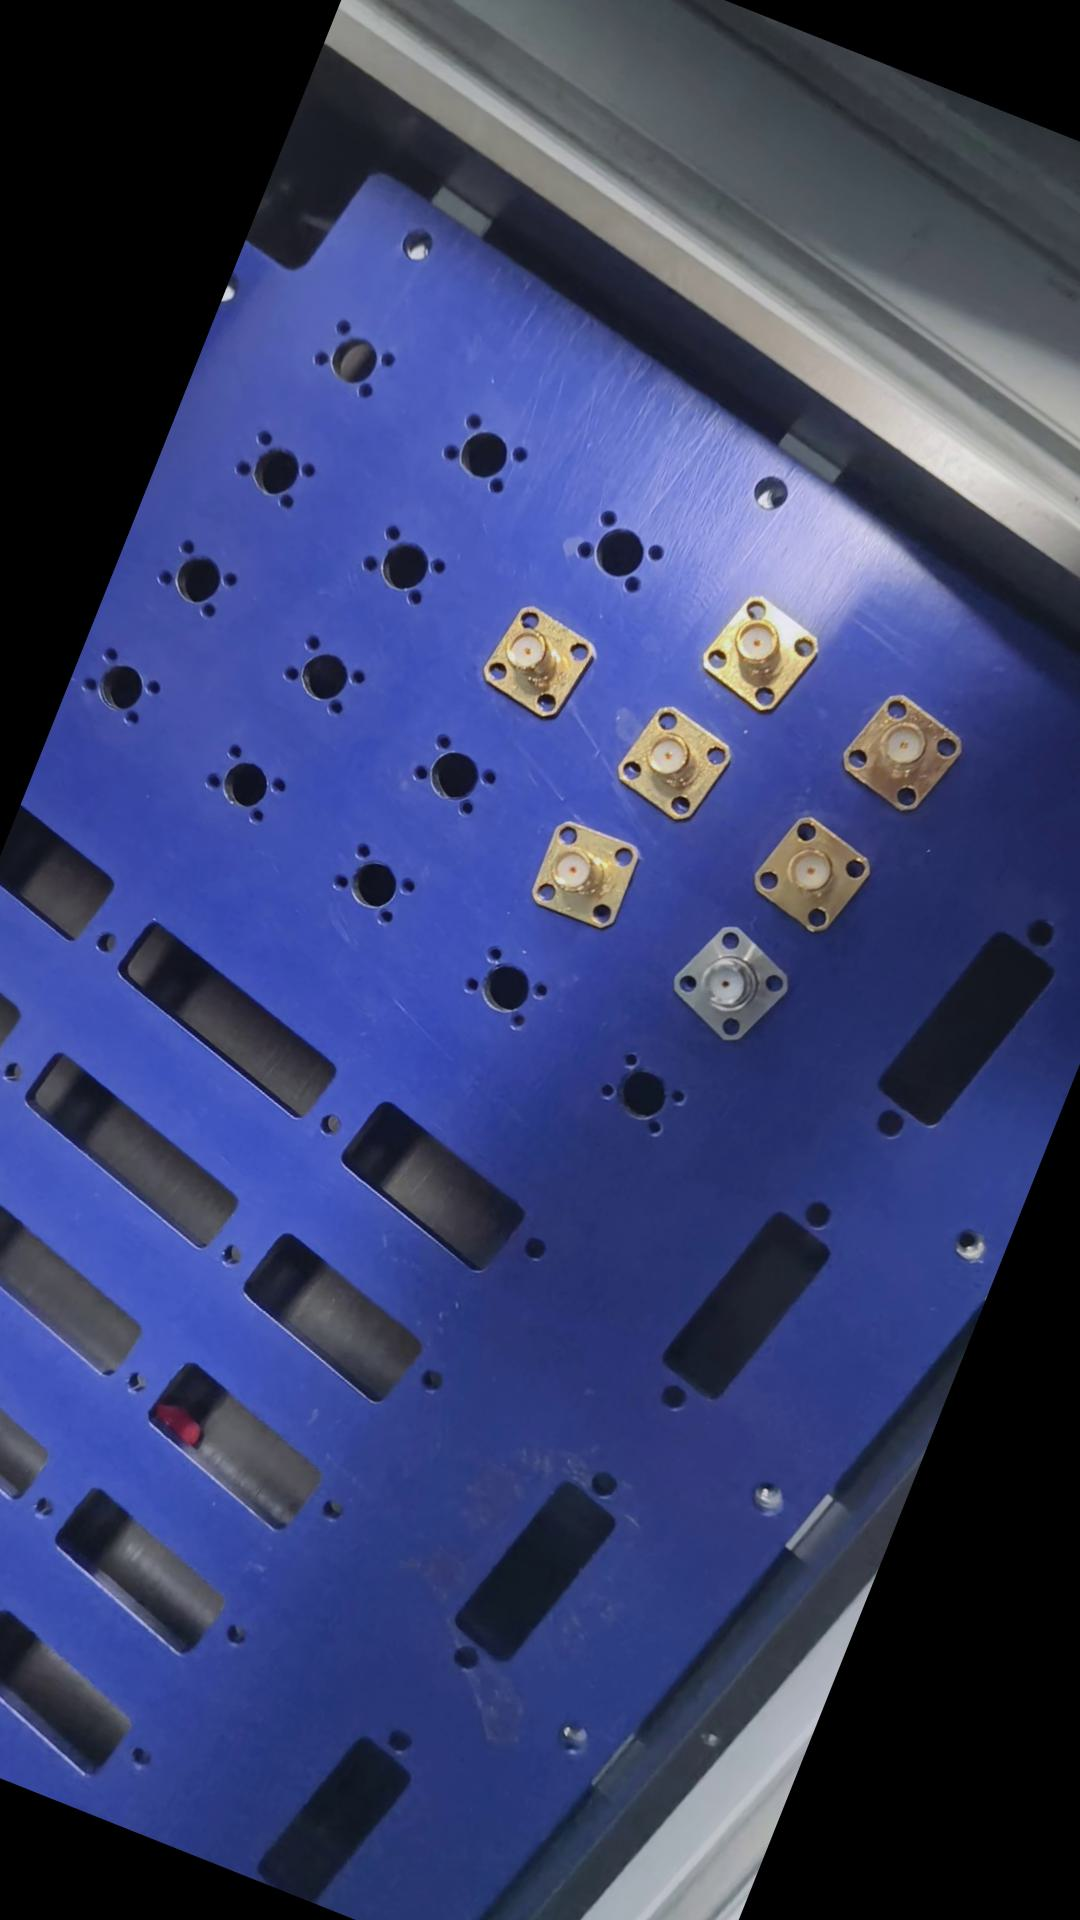SMA: (822, 680, 976, 827), (650, 910, 800, 1052), (682, 578, 829, 719), (735, 803, 877, 942), (512, 806, 651, 944), (599, 696, 741, 829), (468, 593, 601, 731)
